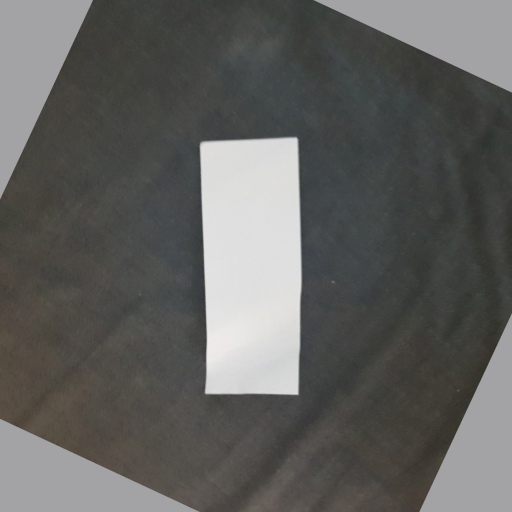Paper_2: (193, 133, 327, 408)
